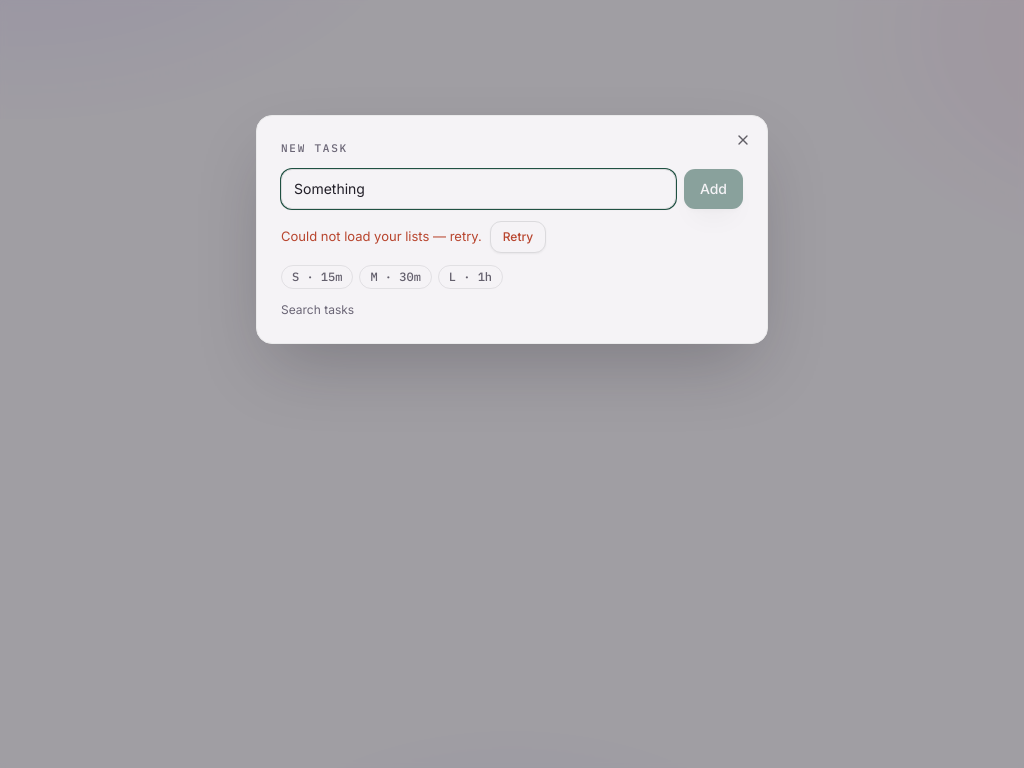
Test: QuickCapture (chunk 73) › Add is disabled until the lists load; a load failure offers Retry
Expected: the button "Add" is disabled, [684,169,743,209]
Expected: the text "Could not load your lists — retry." is shown, [281,227,482,246]
Click the button "Retry" at coordinates (518, 237), box [490,221,546,253]
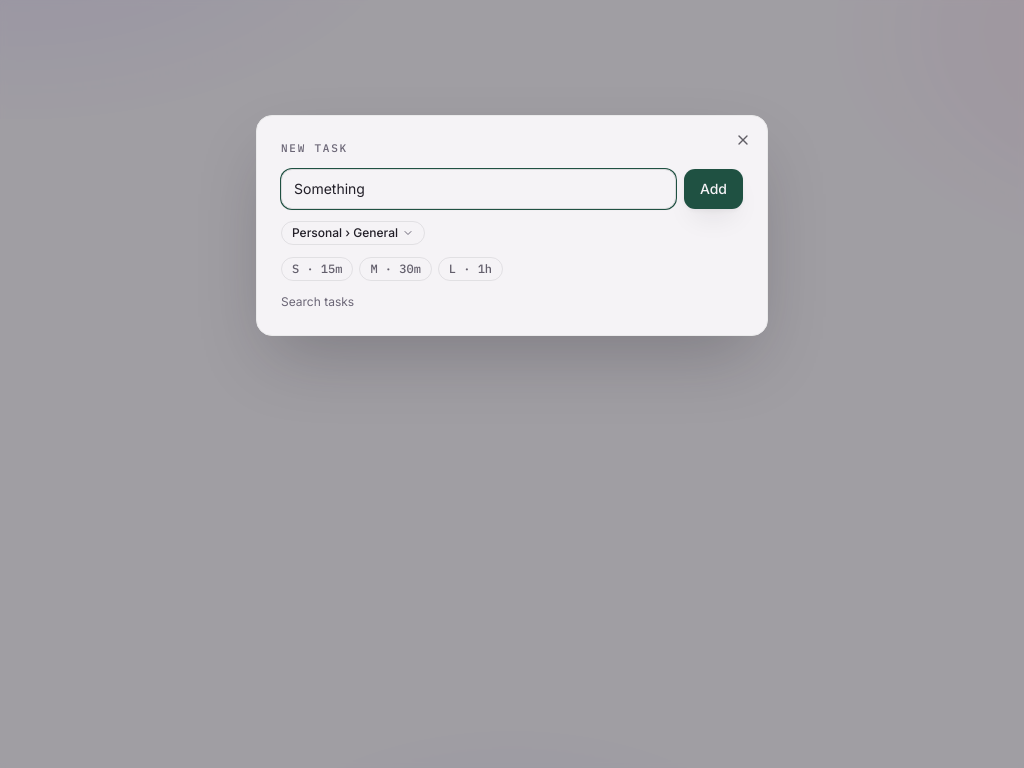
Now the button "Personal › General" is shown, box [281,221,425,245]
Now the button "Add" is enabled, box [684,169,743,209]
